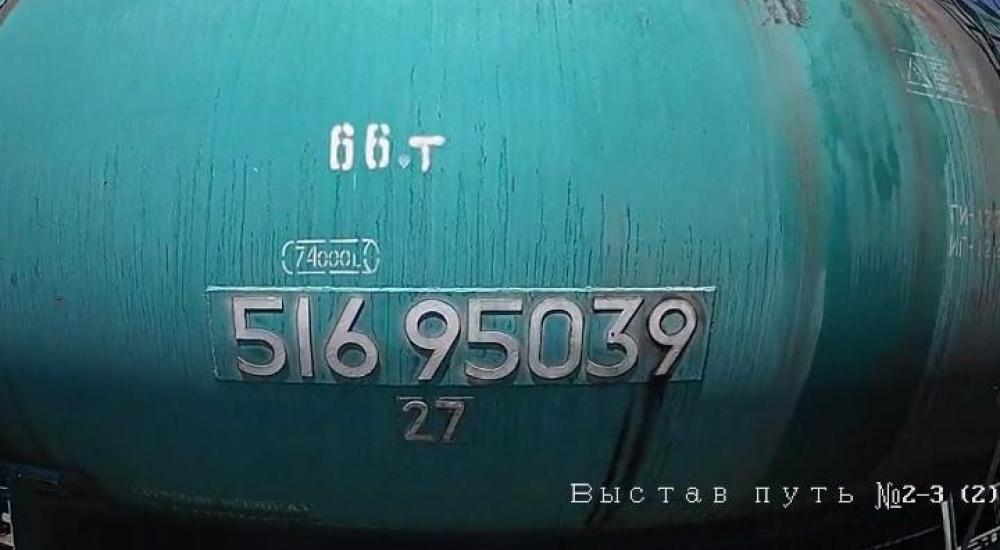Wagon-number: (226, 292, 699, 384)
